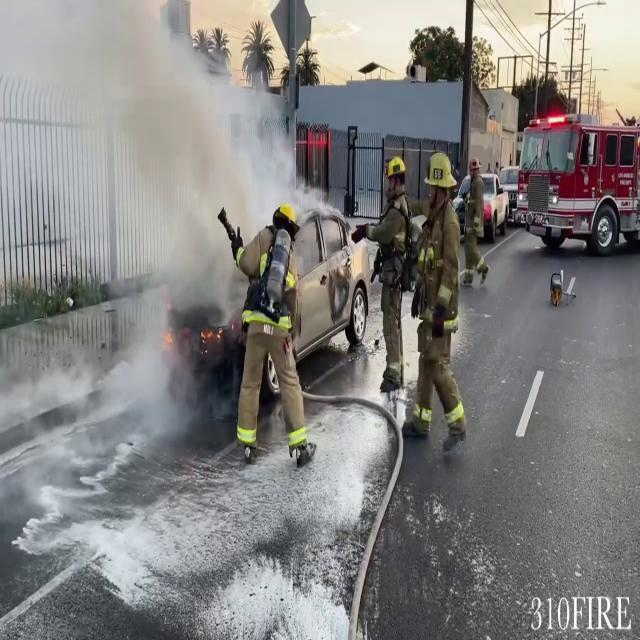Smoke: (68, 1, 300, 414)
